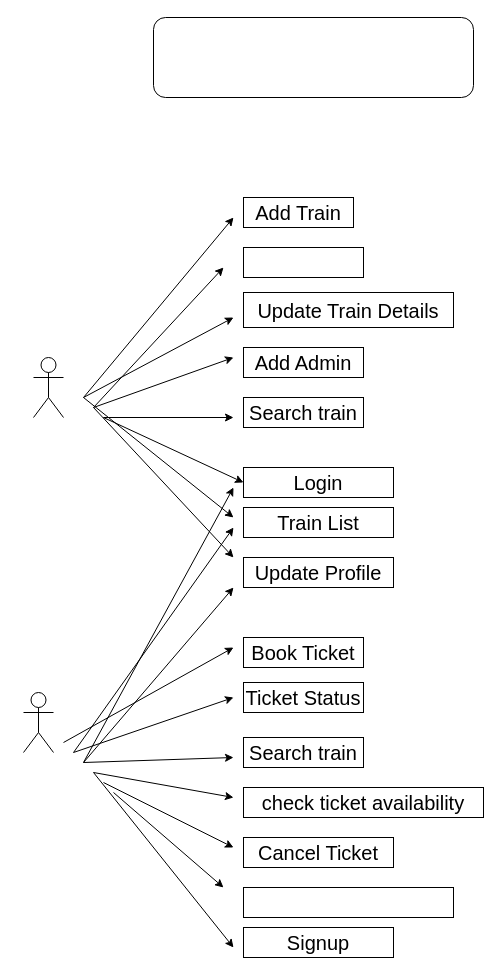
Some shapes in this 501 by 975 pixel diagram are drawn without their labels. The shapes that lost their labels are listed below. From the top down, each one's centre as x and y in pixels, then its label:
pixel 313 57: Use Case Diagram
pixel 303 262: Delete Train
pixel 48 387: Admin
pixel 38 722: User
pixel 348 902: Transaction History
